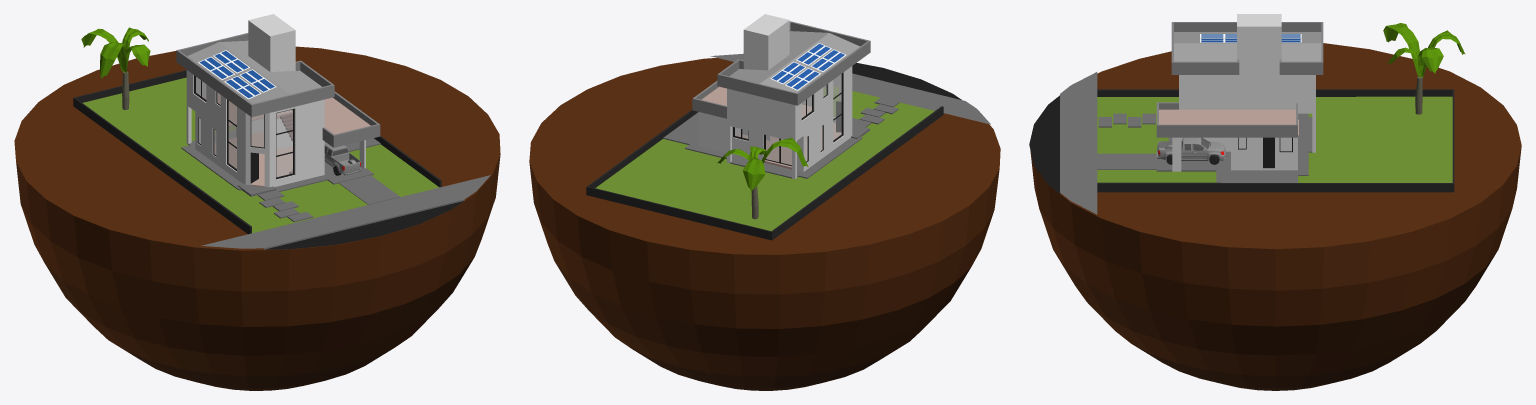
File: House-c.glb
The picture shows the model from 3 angles, left to right: view 1: azimuth 30°, elevation 25°; view 2: azimuth 150°, elevation 25°; view 3: azimuth 270°, elevation 25°; orthographic projection. The views are drawn at different scales.
Visible parts, largest first — view 1: Sphere, terreno, parede, terreno.001, parede.001, platibanda.superior, pisoInferior.006, Cube, pisoInferiorExt.001, palmeira.002, pisoInferiorExt, Plane.023 (+7 smaller); view 2: Sphere, terreno, terreno.001, parede.001, parede, platibanda.superior, pisoInferior.006, Cube, pisoInferiorExt, Plane.023, palmeira.002, pisoInferiorExt.001 (+4 smaller); view 3: Sphere, terreno, terreno.001, parede.001, platibanda.superior, pisoInferior.006, pisoInferiorExt, Cube, parede, platibanda.garagem, laje.garagem, palmeira.002 (+3 smaller).
Boxes of the visible parts, x1,y1,x2,y2 form: Sphere: [14, 46, 500, 390]; terreno: [83, 77, 490, 249]; parede: [195, 108, 365, 187]; terreno.001: [73, 70, 441, 234]; parede.001: [186, 70, 324, 146]; platibanda.superior: [176, 33, 334, 117]; pisoInferior.006: [187, 40, 321, 103]; Cube: [248, 14, 295, 71]; pisoInferiorExt.001: [237, 175, 399, 222]; palmeira.002: [81, 27, 150, 109]; pisoInferiorExt: [181, 131, 380, 191]; Plane.023: [198, 50, 276, 99]; Sphere: [529, 58, 1000, 390]; terreno: [595, 53, 990, 231]; terreno.001: [586, 106, 943, 240]; parede.001: [727, 66, 852, 141]; parede: [698, 86, 852, 171]; platibanda.superior: [717, 21, 870, 105]; pisoInferior.006: [729, 31, 859, 92]; Cube: [743, 14, 789, 70]; pisoInferiorExt: [663, 112, 862, 178]; Plane.023: [770, 43, 845, 90]; palmeira.002: [717, 137, 808, 219]; pisoInferiorExt.001: [823, 85, 899, 138]; Sphere: [1030, 43, 1521, 390]; terreno: [1029, 72, 1452, 214]; terreno.001: [1097, 89, 1454, 192]; parede.001: [1179, 71, 1315, 113]; platibanda.superior: [1171, 22, 1323, 74]; pisoInferior.006: [1174, 32, 1321, 61]; pisoInferiorExt: [1156, 113, 1312, 182]; Cube: [1237, 14, 1281, 71]; parede: [1172, 137, 1297, 171]; platibanda.garagem: [1156, 102, 1297, 137]; laje.garagem: [1159, 109, 1295, 124]; palmeira.002: [1383, 23, 1465, 114].
Bounding box in the file's own units: 33.1 × 26.03 × 33.1.
